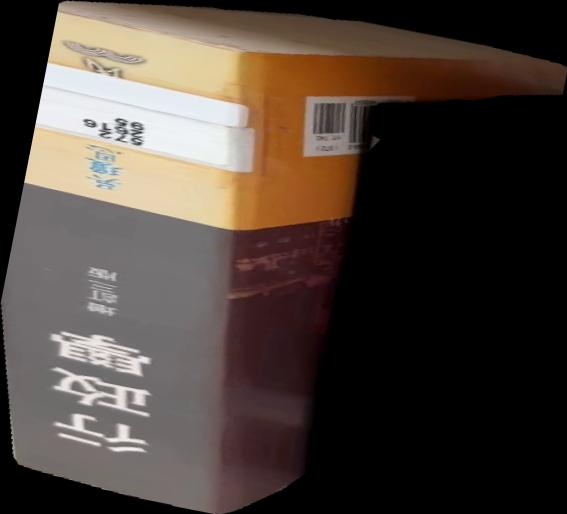reverse: (1, 1, 567, 514)
